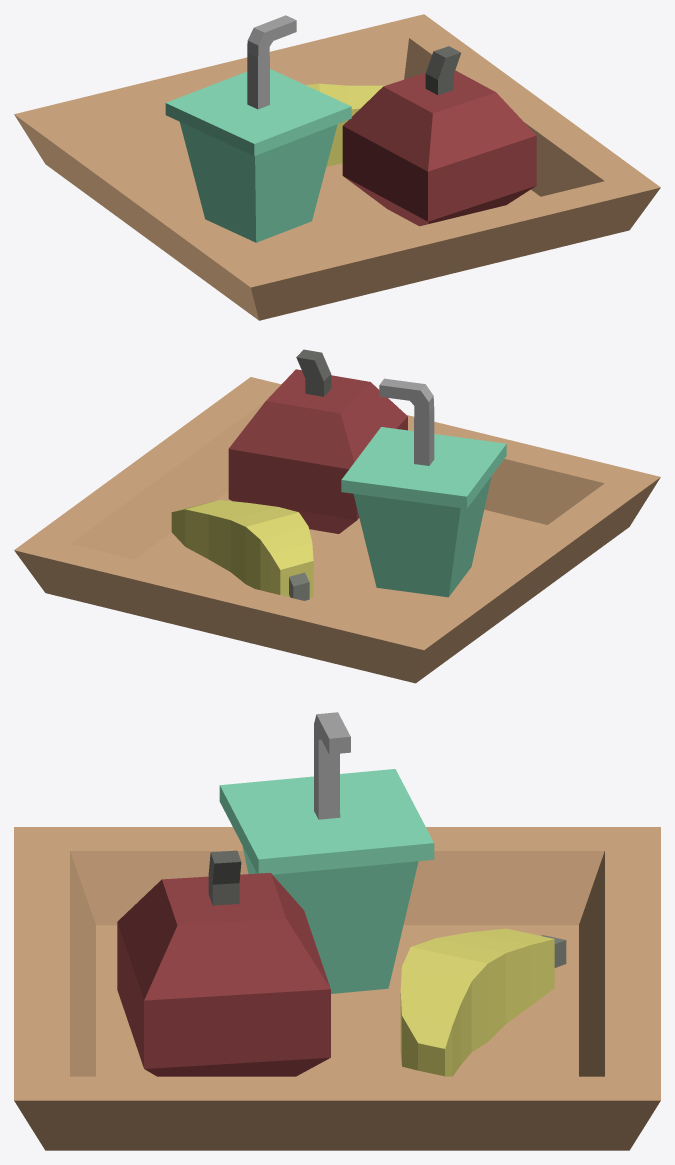
File: tray_withFood.fbx
The picture shows the model from 3 angles, top to bottom: view 1: azimuth 30°, elevation 25°; view 2: azimuth 150°, elevation 25°; view 3: azimuth 270°, elevation 25°; orthographic projection. The views are drawn at different scales.
Visible parts, largest first — view 1: food_tray, apple, food_drink6, banana; view 2: food_tray, food_drink6, apple, banana; view 3: food_tray, apple, food_drink6, banana.
Boxes of the visible parts, left/top/right/bottom form: food_tray: left=14, top=14, right=660, bottom=320; apple: left=342, top=46, right=536, bottom=226; food_drink6: left=165, top=15, right=351, bottom=242; banana: left=306, top=83, right=384, bottom=166; food_tray: left=14, top=377, right=660, bottom=683; food_drink6: left=341, top=378, right=506, bottom=597; apple: left=228, top=349, right=407, bottom=533; banana: left=171, top=500, right=313, bottom=600; food_tray: left=14, top=827, right=660, bottom=1150; apple: left=117, top=850, right=330, bottom=1076; food_drink6: left=219, top=712, right=434, bottom=993; banana: left=400, top=928, right=566, bottom=1076.
Size of the model in its own units: 1.41 by 0.6722 by 1.41.
